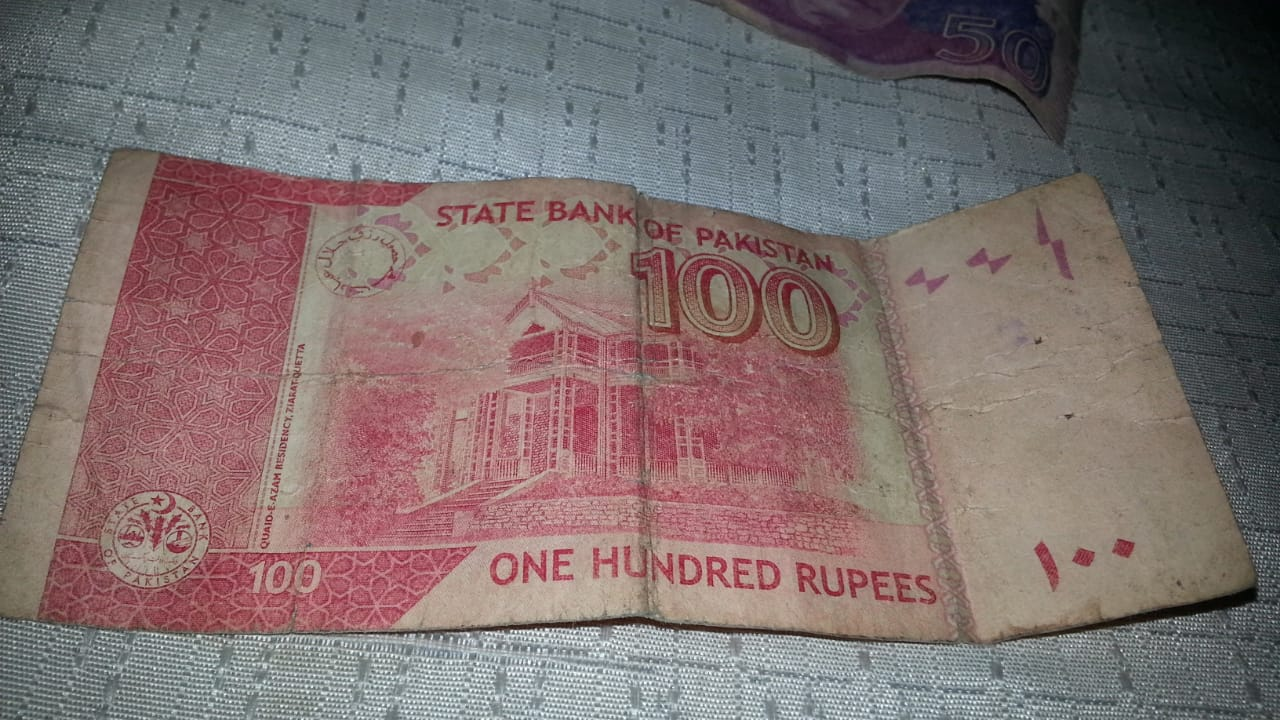100 rupee: (21, 130, 1267, 656)
